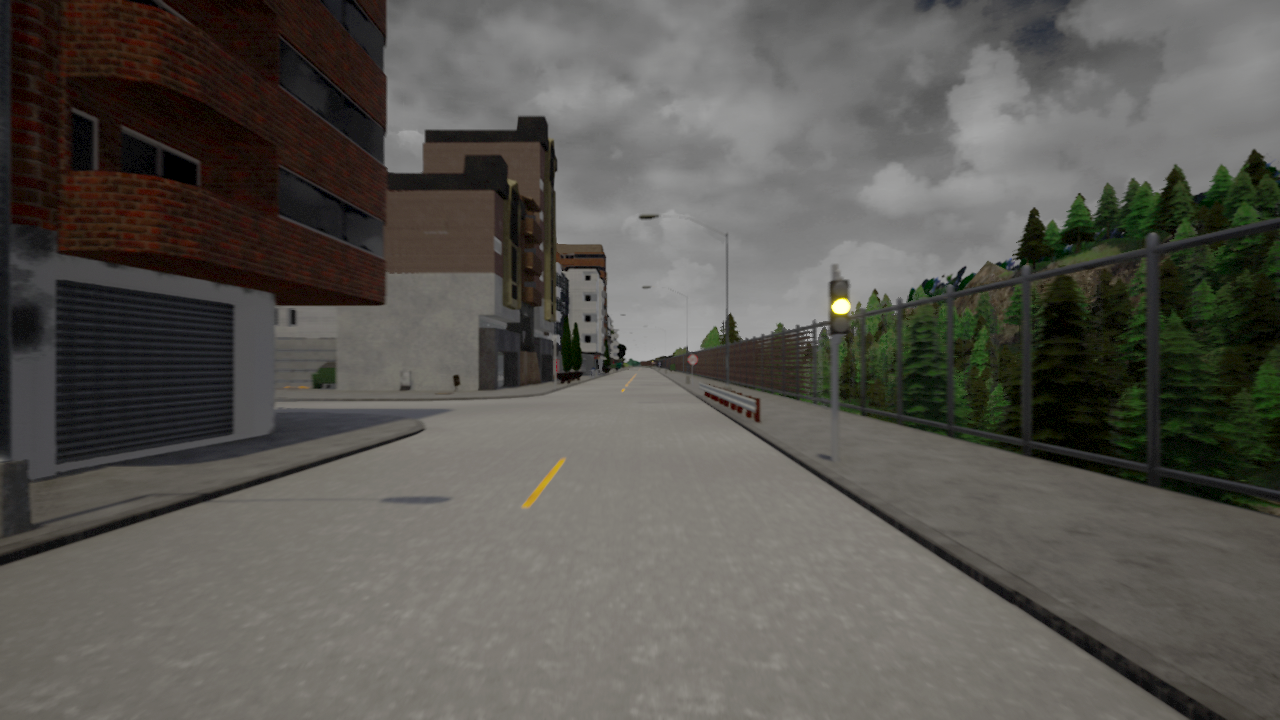yellow: (826, 278, 854, 337)
